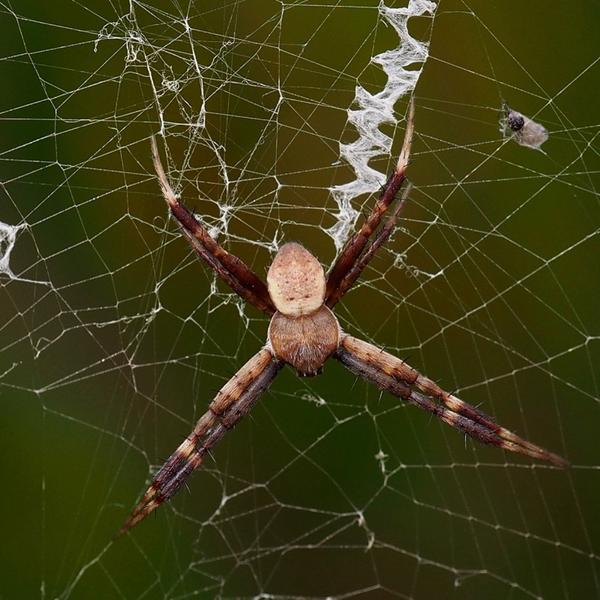St Andrew's Cross Spider: (129, 102, 564, 525)
